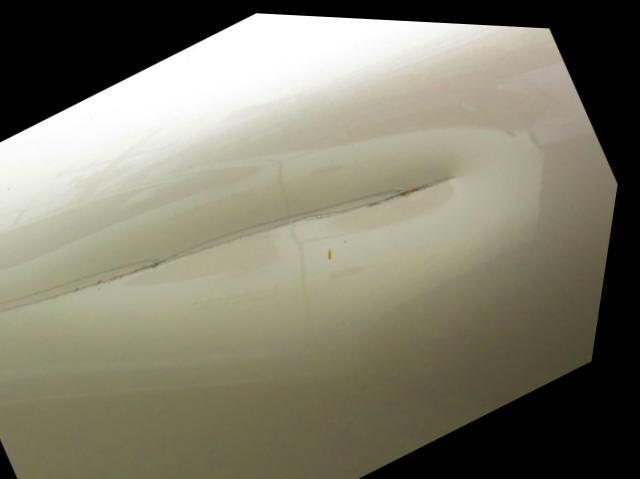dent: (93, 125, 501, 302)
